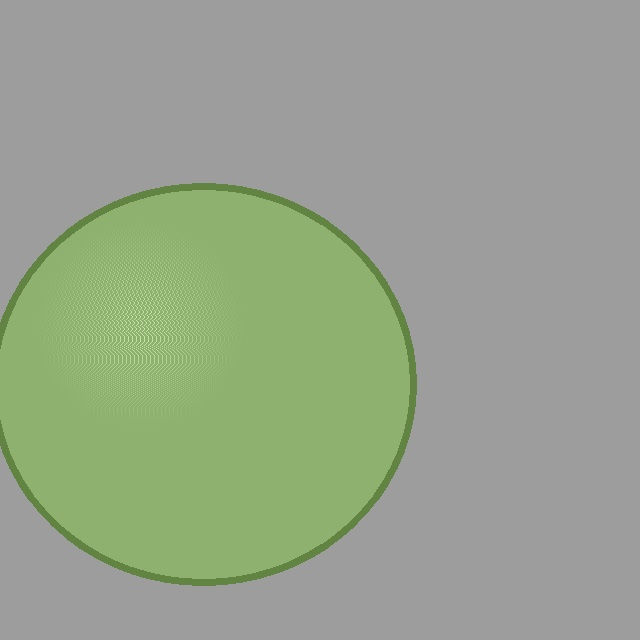lens: (0, 186, 413, 582)
